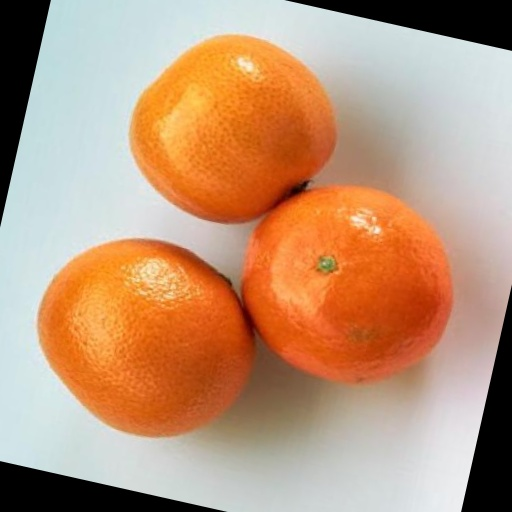fruit: (77, 169, 406, 512), (180, 60, 450, 288), (385, 169, 511, 478)
